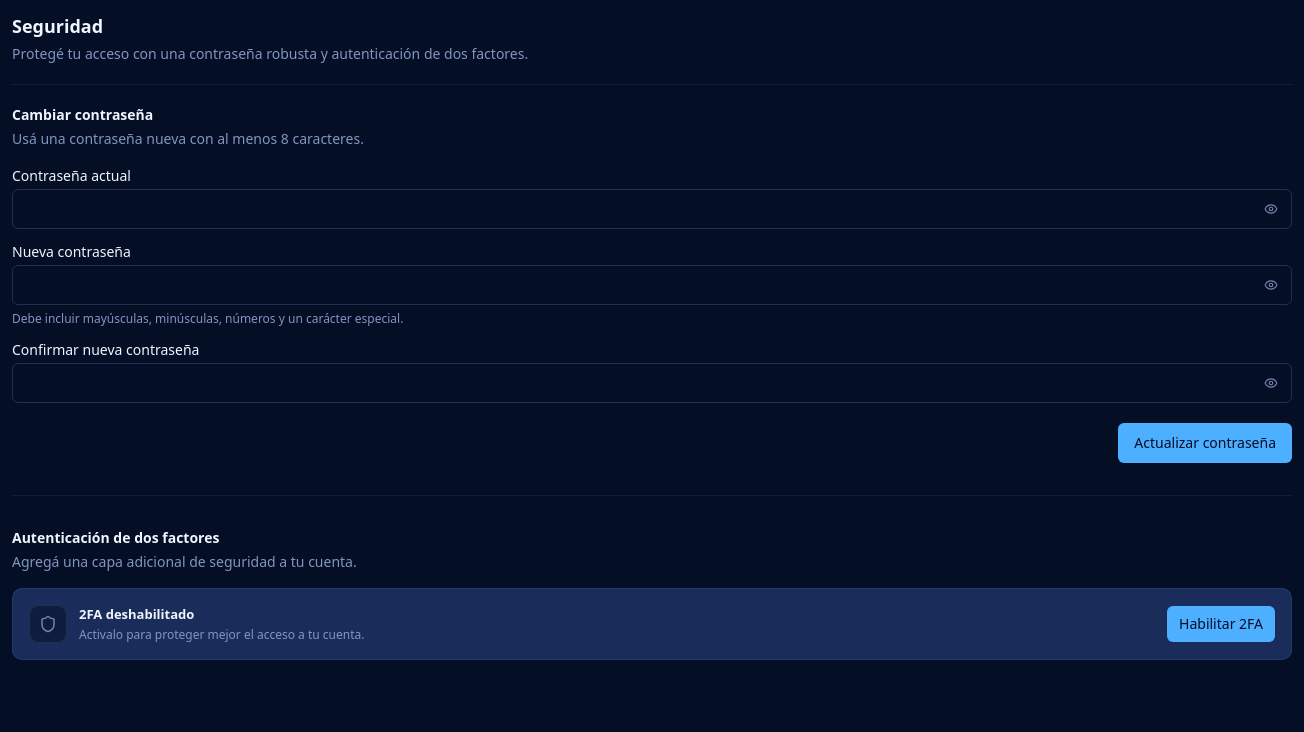
Scenario: SettingsSecurityPage › muestra errores de validación cuando la confirmación no coincide
Type "Actual123!" into the password field labelled "Contraseña actual" at (652, 209), box [12, 189, 1292, 229]
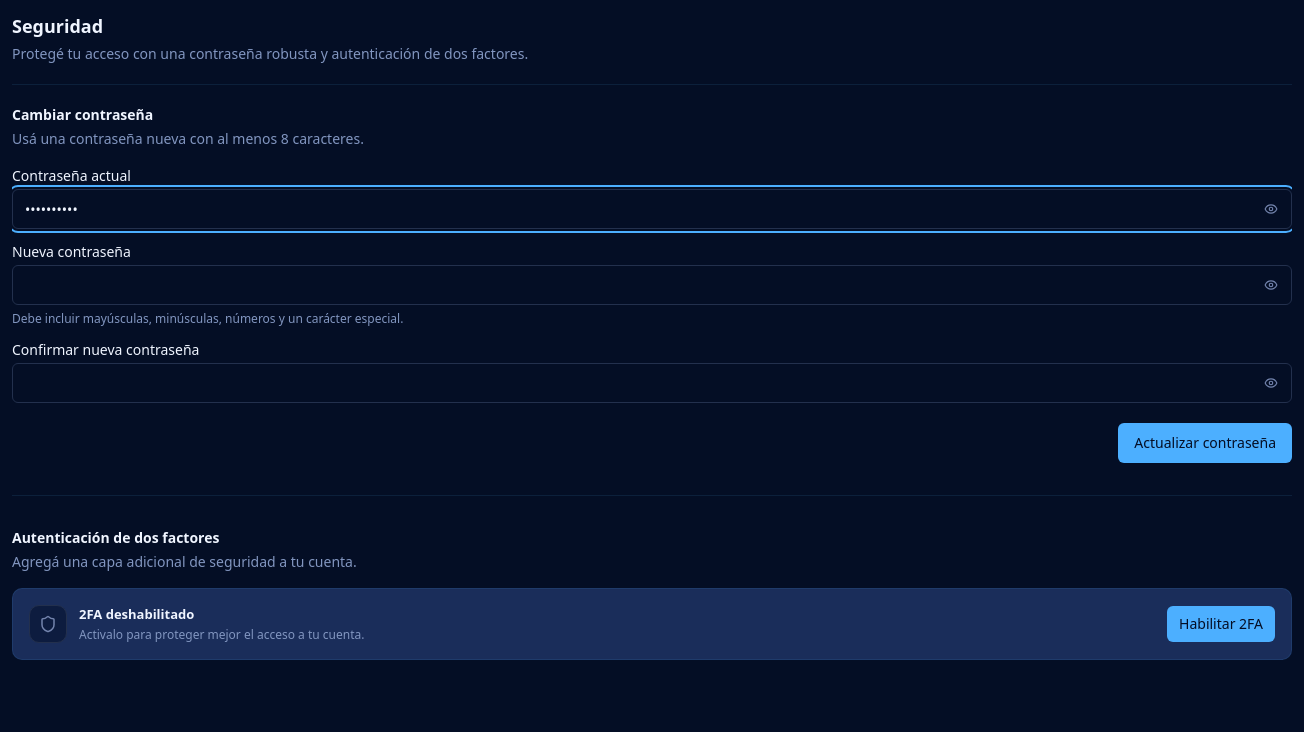
Type "Nueva123!" into the password field labelled "Nueva contraseña" at (652, 285), box [12, 265, 1292, 305]
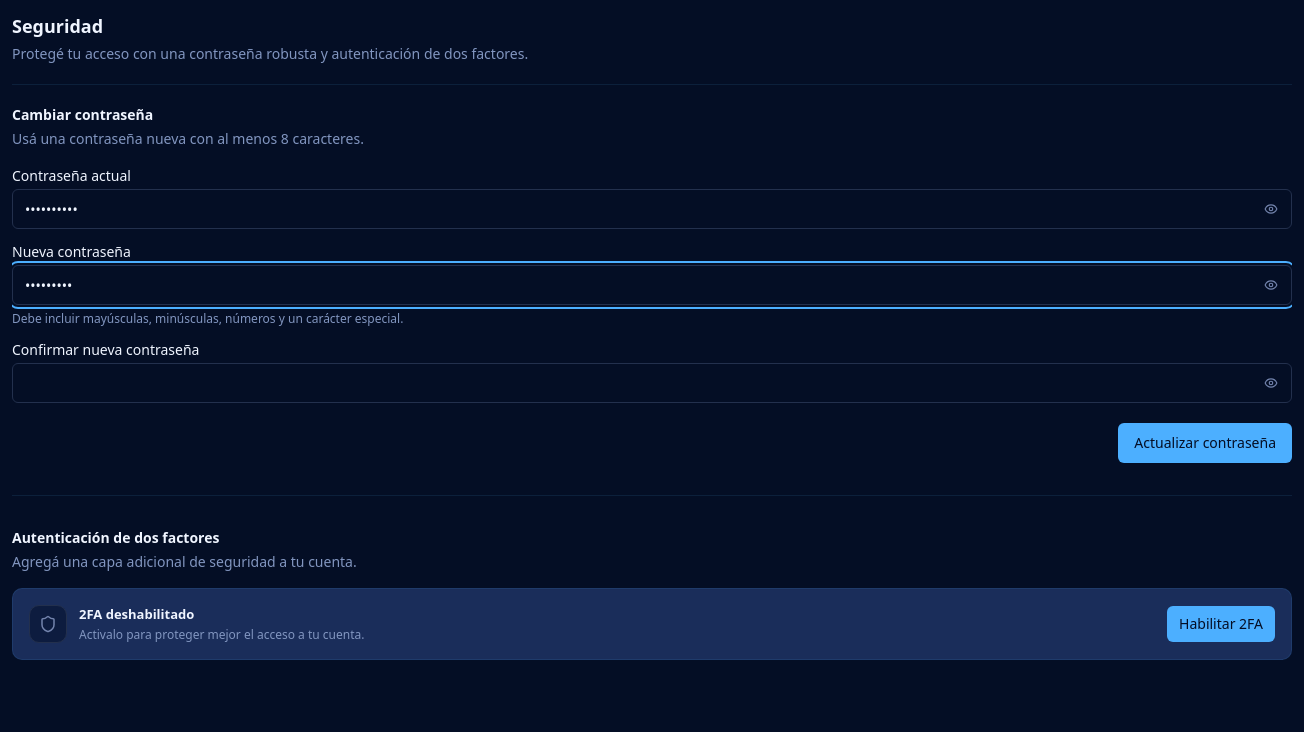
Type "Otra123!" into the password field labelled "Confirmar nueva contraseña" at (652, 383), box [12, 363, 1292, 403]
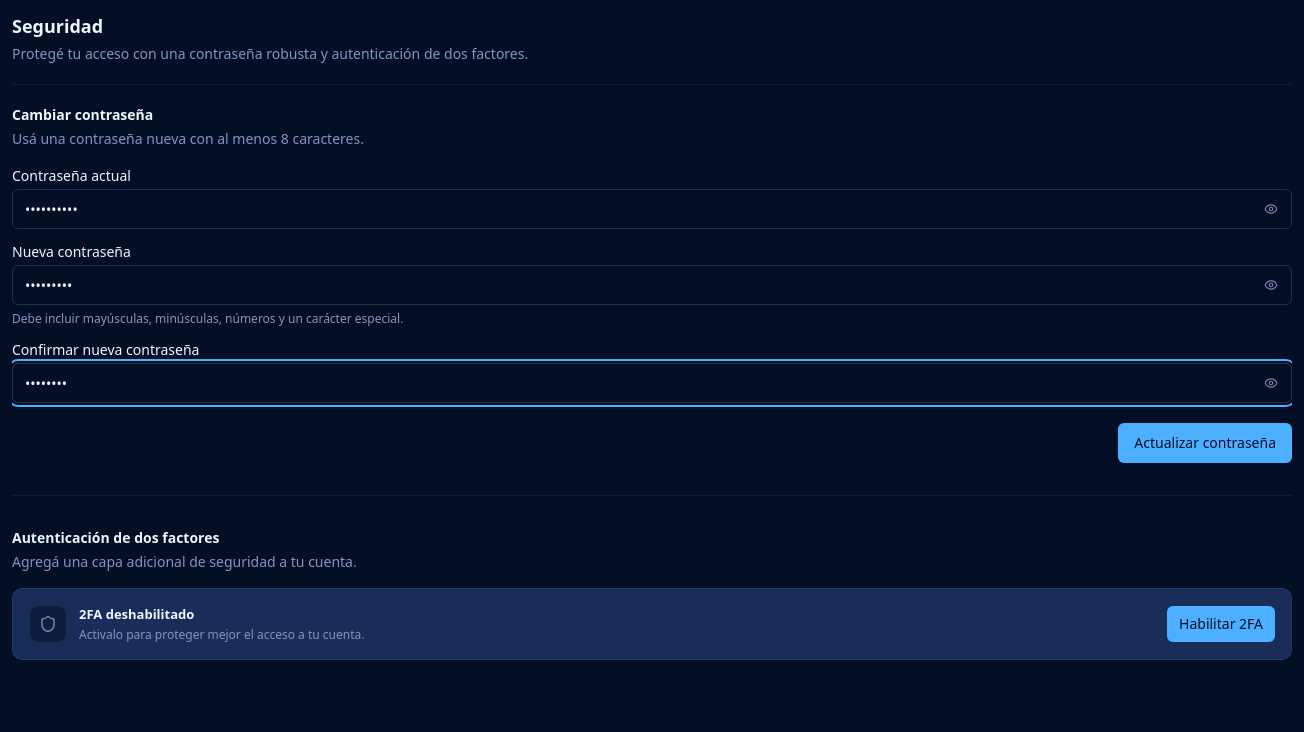
Click the button "Actualizar contraseña" at (1205, 443), box [1118, 423, 1292, 463]
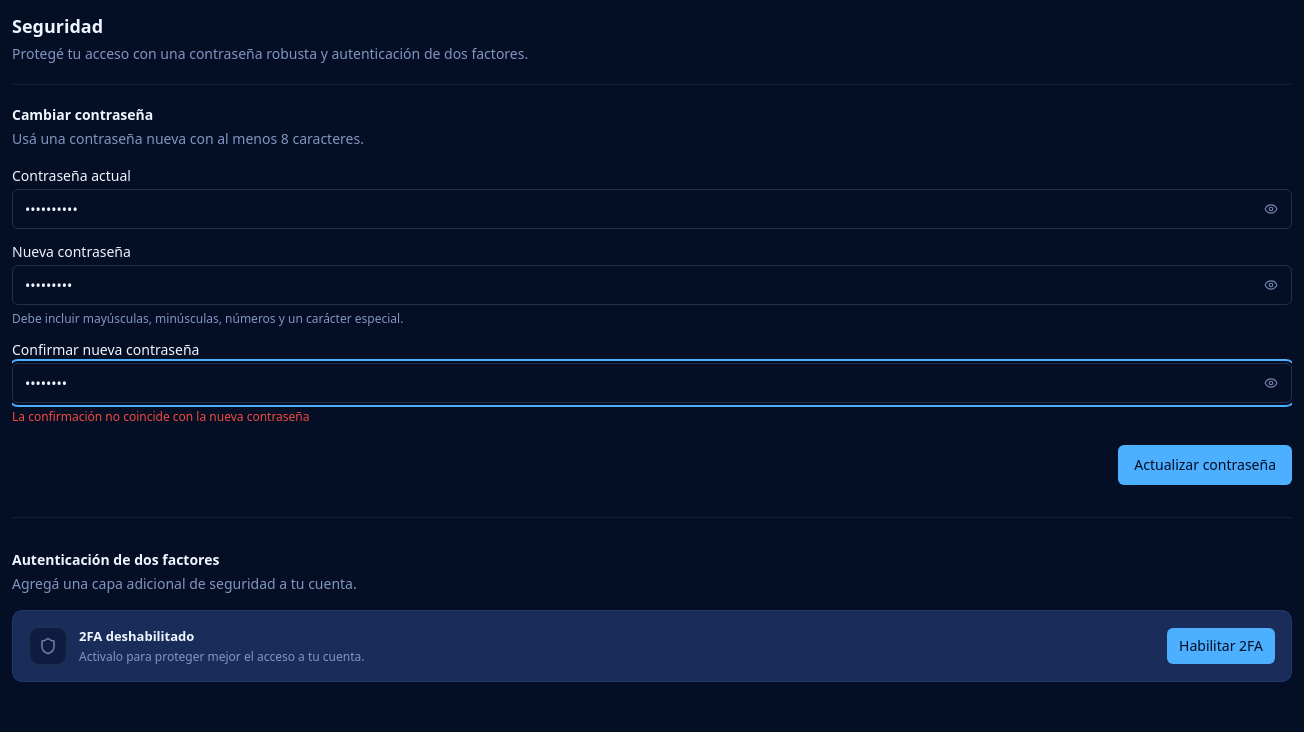
Check: the text "La confirmación no coincide con la nueva contraseña" is shown, box [12, 408, 310, 425]
